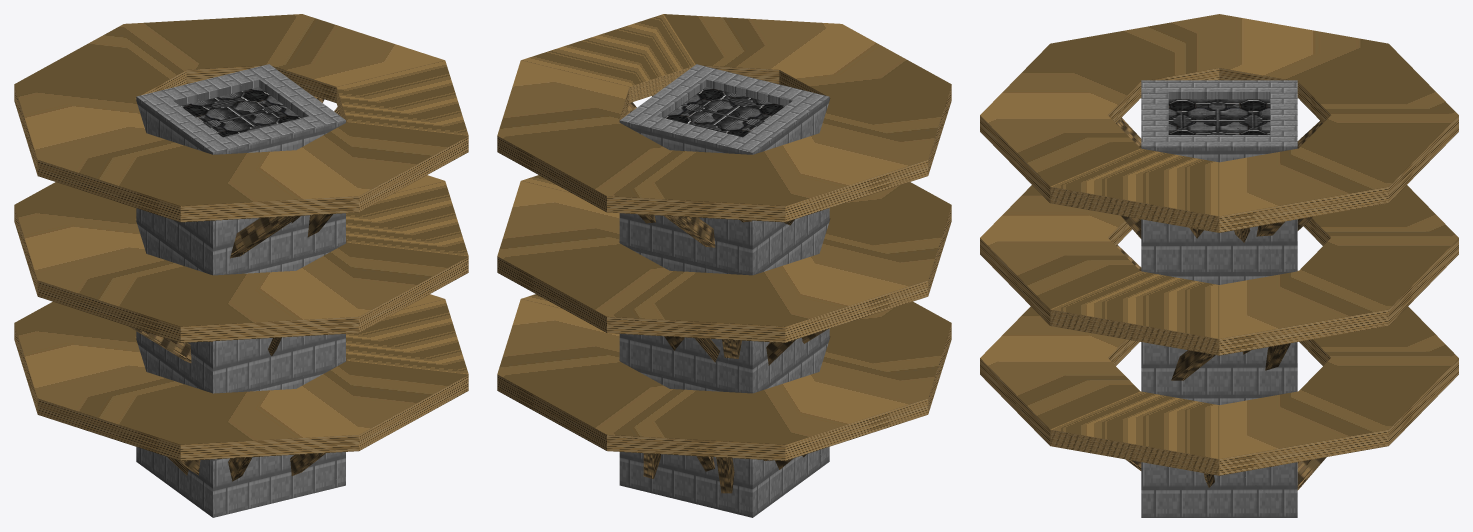
File: Torre.fbx
3 views of the same model, side by side, from view 1: azimuth 30°, elevation 25°; view 2: azimuth 150°, elevation 25°; view 3: azimuth 270°, elevation 25° (orthographic).
Parts seen in each view (by area): view 1: BaseP3, BaseP2, BaseP1, Torre, P3Apoyo10, P2Apoyo4; view 2: BaseP3, BaseP2, BaseP1, Torre, P3Apoyo4, P1Apoyo12; view 3: BaseP3, BaseP2, BaseP1, Torre, P2Apoyo10.
Part boxes in pixels (x1,y1,x2,y2): BaseP3: (14, 14, 468, 222); BaseP2: (14, 175, 468, 342); BaseP1: (14, 294, 468, 460); Torre: (136, 64, 345, 517); P3Apoyo10: (230, 215, 300, 258); P2Apoyo4: (128, 326, 191, 363); BaseP3: (497, 14, 951, 222); BaseP2: (497, 175, 951, 342); BaseP1: (497, 294, 951, 460); Torre: (619, 64, 829, 517); P3Apoyo4: (663, 215, 715, 247); P1Apoyo12: (716, 457, 734, 493); BaseP3: (980, 14, 1458, 232); BaseP2: (980, 185, 1458, 355); BaseP1: (980, 270, 1458, 475); Torre: (1141, 80, 1297, 517); P2Apoyo10: (1171, 350, 1215, 380).
Size of the model in its own units: 4100 by 3510 by 4100.
